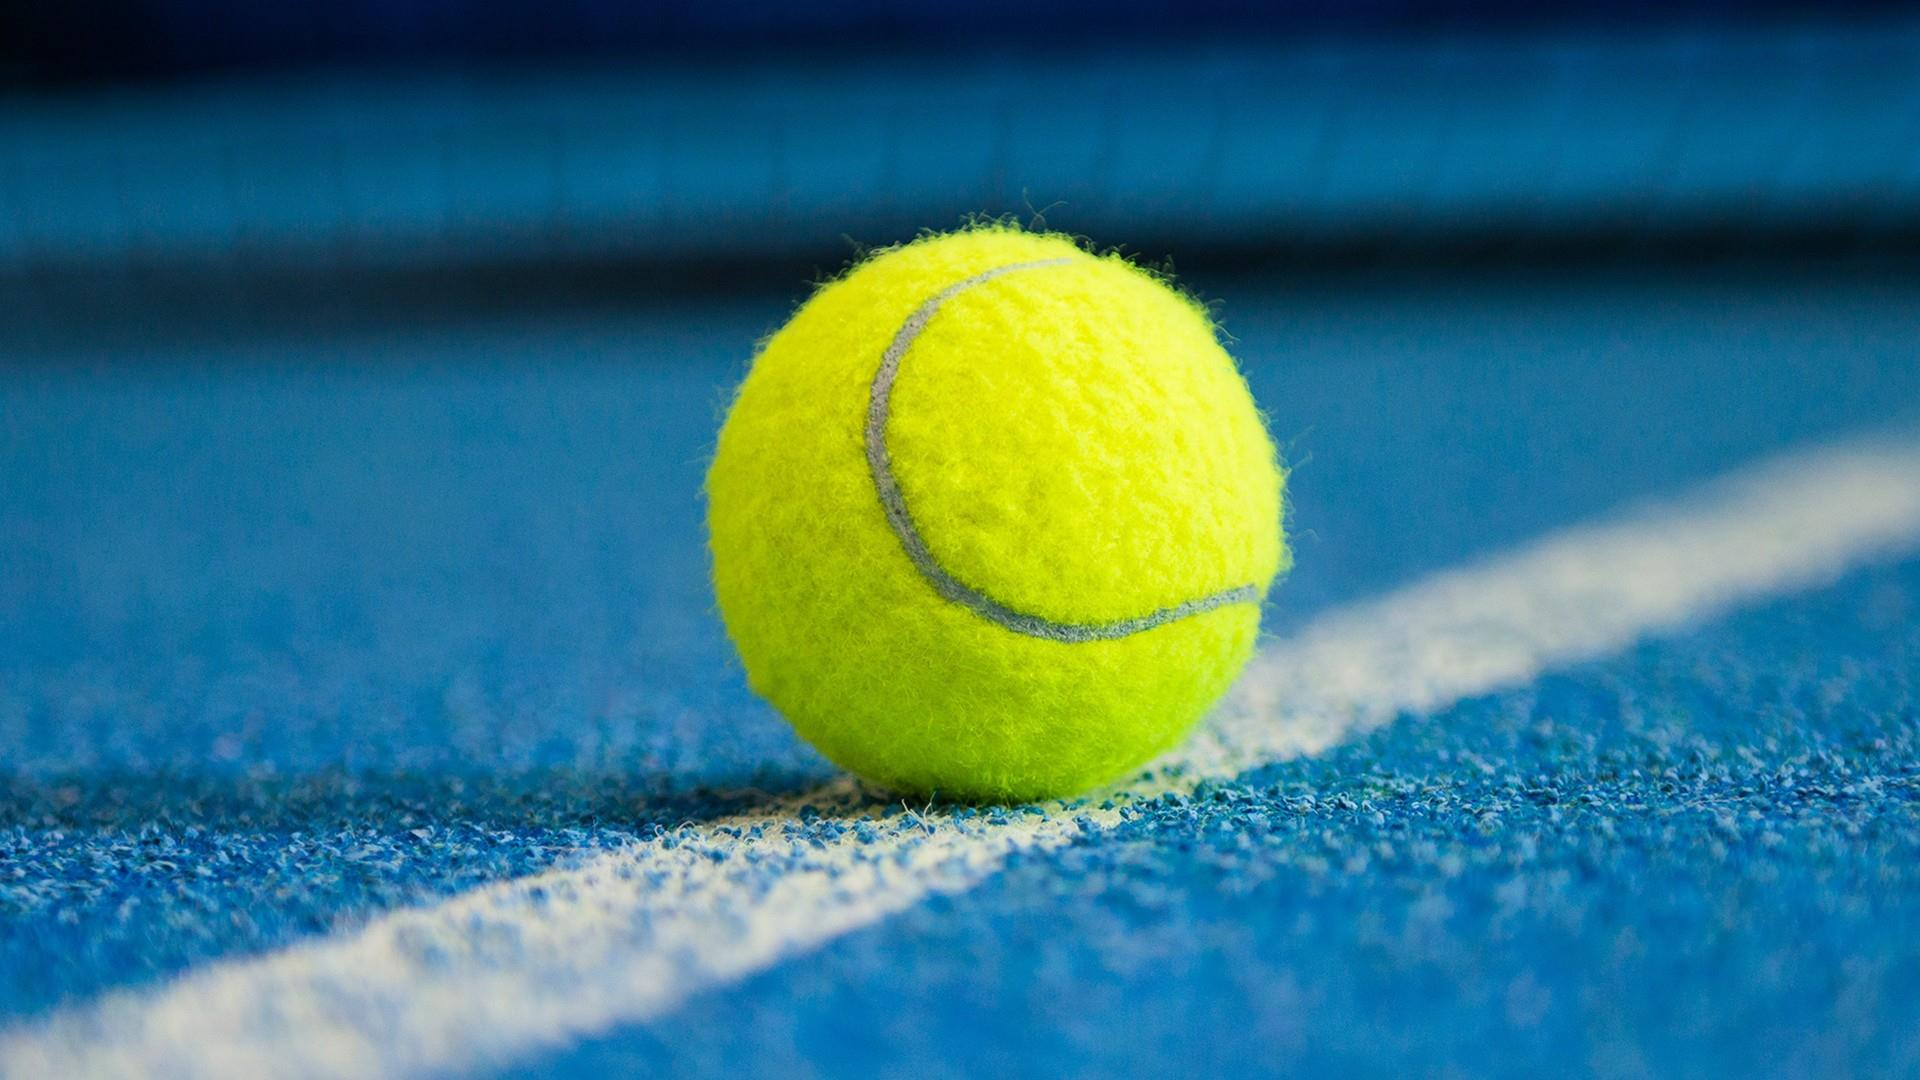aim: (703, 229, 1292, 814)
